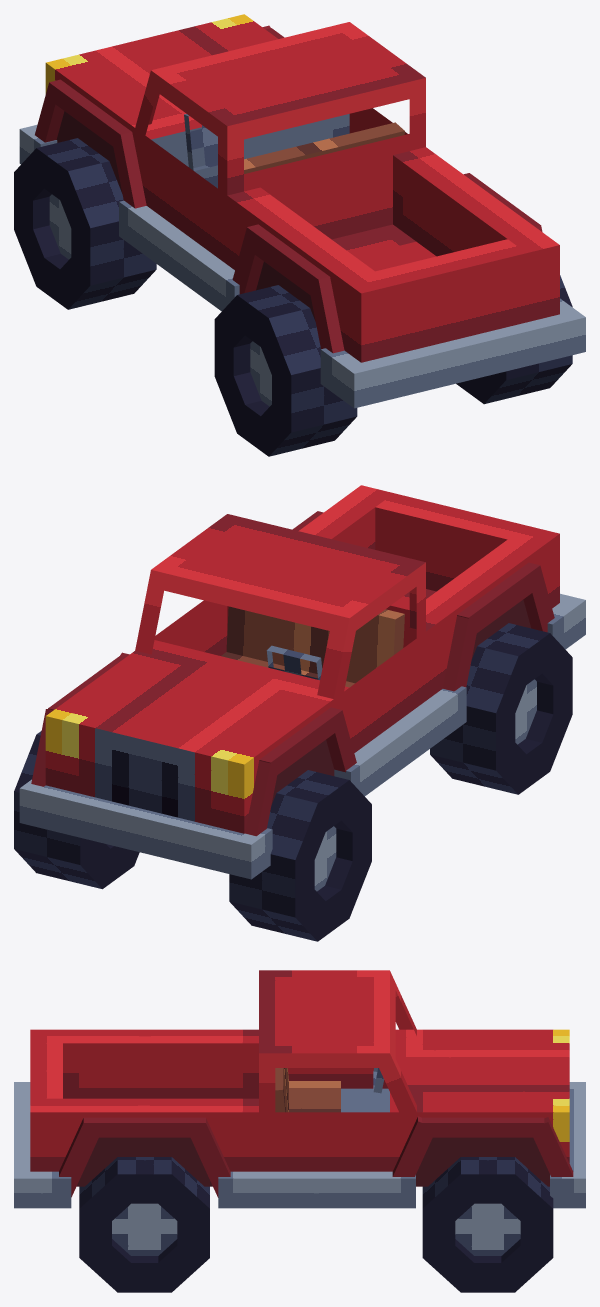
3 views of the same model, one above another, from view 1: azimuth 30°, elevation 25°; view 2: azimuth 150°, elevation 25°; view 3: azimuth 270°, elevation 25° (orthographic). The views are drawn at different scales.
Parts seen in each view (by area): view 1: cube_8, cube_3, cube_6, cube_12, cube_7, cube_5, cube_11, octagon_58, octagon_38, octagon_66, octagon_46, cube_13 (+26 smaller); view 2: cube_3, cube_8, cube_10, cube_5, cube_7, cube_13, cube_9, cube_11, octagon_62, octagon_64, octagon_40, octagon_42 (+27 smaller); view 3: cube_8, cube_3, cube_5, cube_6, cube_11, cube_12, octagon_51, octagon_36, cube_10, cube_15, cube_24, octagon_31 (+24 smaller).
Part boxes in pixels (x1=…): cube_8: x1=151, y1=22, x2=425, y2=264; cube_3: x1=45, y1=14, x2=278, y2=208; cube_6: x1=393, y1=147, x2=559, y2=322; cube_12: x1=320, y1=298, x2=585, y2=408; cube_7: x1=375, y1=239, x2=526, y2=354; cube_5: x1=227, y1=187, x2=394, y2=362; cube_11: x1=119, y1=200, x2=415, y2=311; octagon_58: x1=71, y1=214, x2=156, y2=285; octagon_38: x1=255, y1=308, x2=320, y2=389; octagon_66: x1=55, y1=161, x2=123, y2=241; octagon_46: x1=272, y1=364, x2=357, y2=432; cube_13: x1=244, y1=122, x2=404, y2=173; cube_3: x1=45, y1=640, x2=349, y2=833; cube_8: x1=151, y1=514, x2=425, y2=752; cube_10: x1=19, y1=779, x2=272, y2=879; cube_5: x1=403, y1=525, x2=559, y2=700; cube_7: x1=375, y1=493, x2=526, y2=591; cube_13: x1=226, y1=606, x2=404, y2=683; cube_9: x1=135, y1=570, x2=358, y2=702; cube_11: x1=334, y1=686, x2=466, y2=796; octagon_62: x1=229, y1=846, x2=314, y2=917; octagon_64: x1=267, y1=793, x2=330, y2=873; octagon_40: x1=466, y1=646, x2=526, y2=727; octagon_42: x1=430, y1=706, x2=515, y2=770; cube_8: x1=259, y1=970, x2=389, y2=1171; cube_3: x1=390, y1=1029, x2=569, y2=1186; cube_5: x1=30, y1=1029, x2=258, y2=1098; cube_6: x1=30, y1=1098, x2=258, y2=1171; cube_11: x1=218, y1=1088, x2=415, y2=1208; cube_12: x1=14, y1=1082, x2=71, y2=1208; octagon_51: x1=455, y1=1203, x2=520, y2=1255; octagon_36: x1=112, y1=1203, x2=177, y2=1255; cube_10: x1=550, y1=1082, x2=585, y2=1208; cube_15: x1=422, y1=1117, x2=544, y2=1137; cube_24: x1=83, y1=1117, x2=205, y2=1137; octagon_31: x1=117, y1=1157, x2=171, y2=1203.
Size of the model in its own units: 2.05 by 1.81 by 4.22.
1 material, 1 textured.
